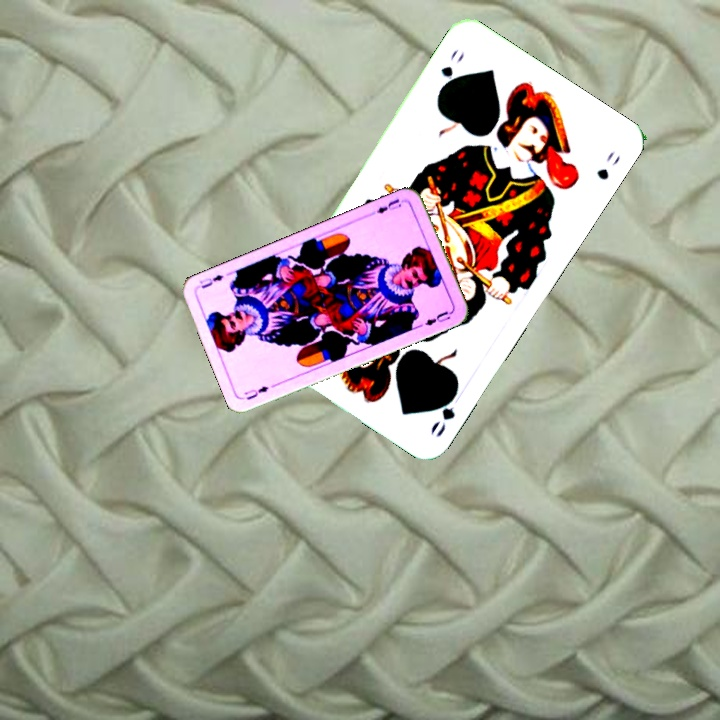EU: (368, 194, 407, 219), (240, 382, 271, 402)
GO: (426, 384, 461, 441), (435, 46, 468, 95)
